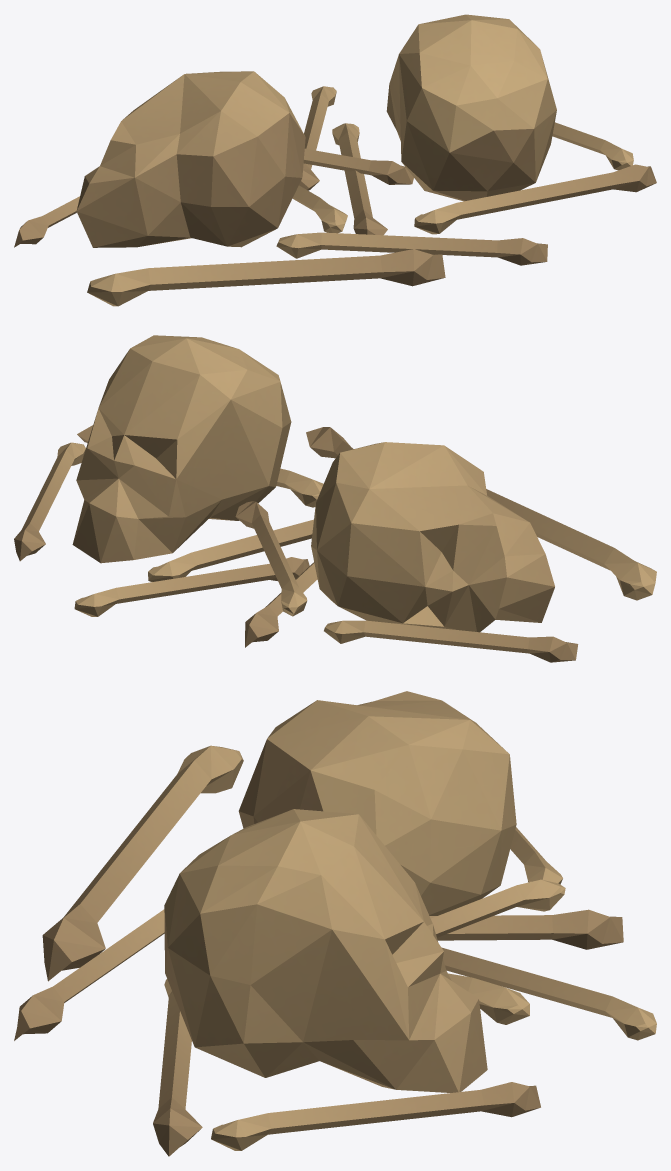
The model's file is Skull_4C.fbx.
The picture shows the model from 3 angles, top to bottom: view 1: azimuth 30°, elevation 25°; view 2: azimuth 150°, elevation 25°; view 3: azimuth 270°, elevation 25°; orthographic projection. The views are drawn at different scales.
Parts seen in each view (by area): view 1: polySurface1403; view 2: polySurface1403; view 3: polySurface1403.
Part boxes in pixels (x1=…): polySurface1403: x1=14, y1=14, x2=656, y2=306; polySurface1403: x1=14, y1=335, x2=656, y2=662; polySurface1403: x1=14, y1=691, x2=656, y2=1156.
Bounding box in the file's own units: 2.14 × 0.6558 × 1.5.
